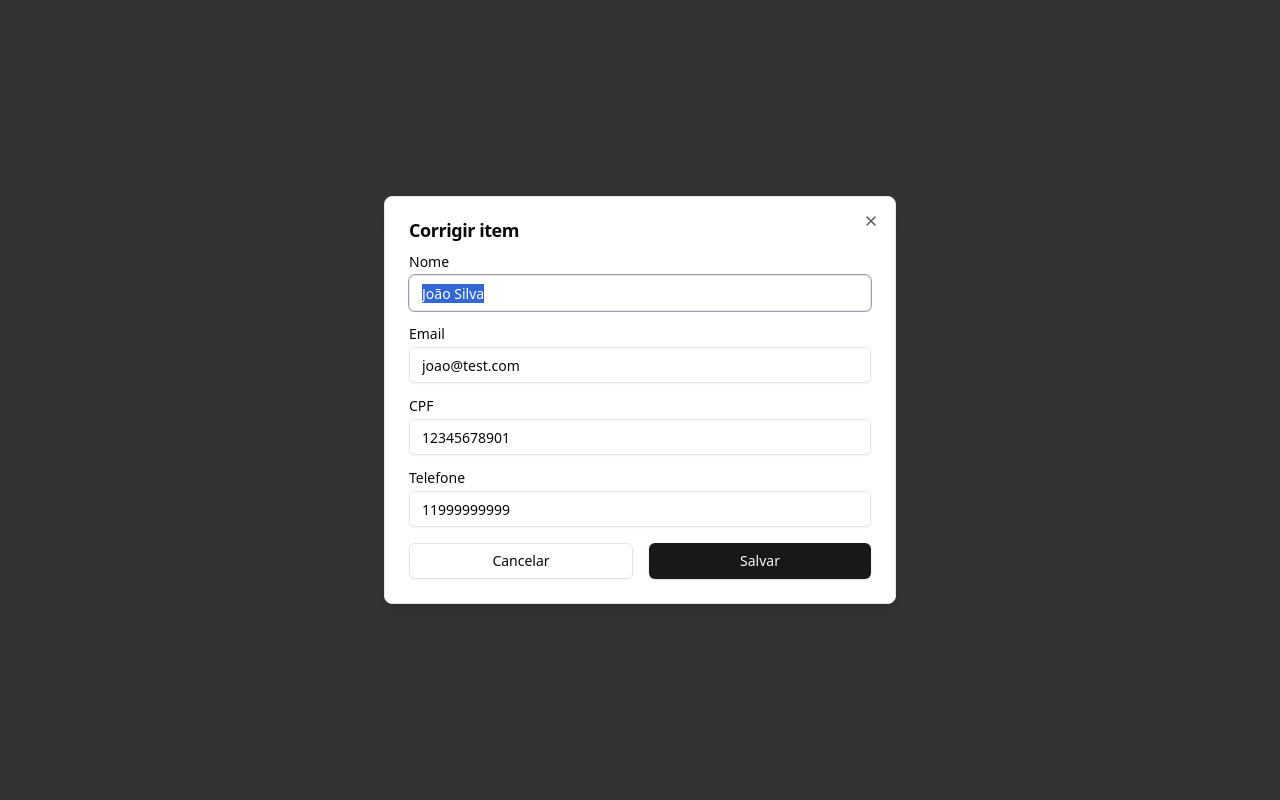
Test: EditItemModal › exibe erro inline quando API retorna item com status ERROR
Click the button "Salvar" at coordinates (760, 561), box [649,543,871,579]
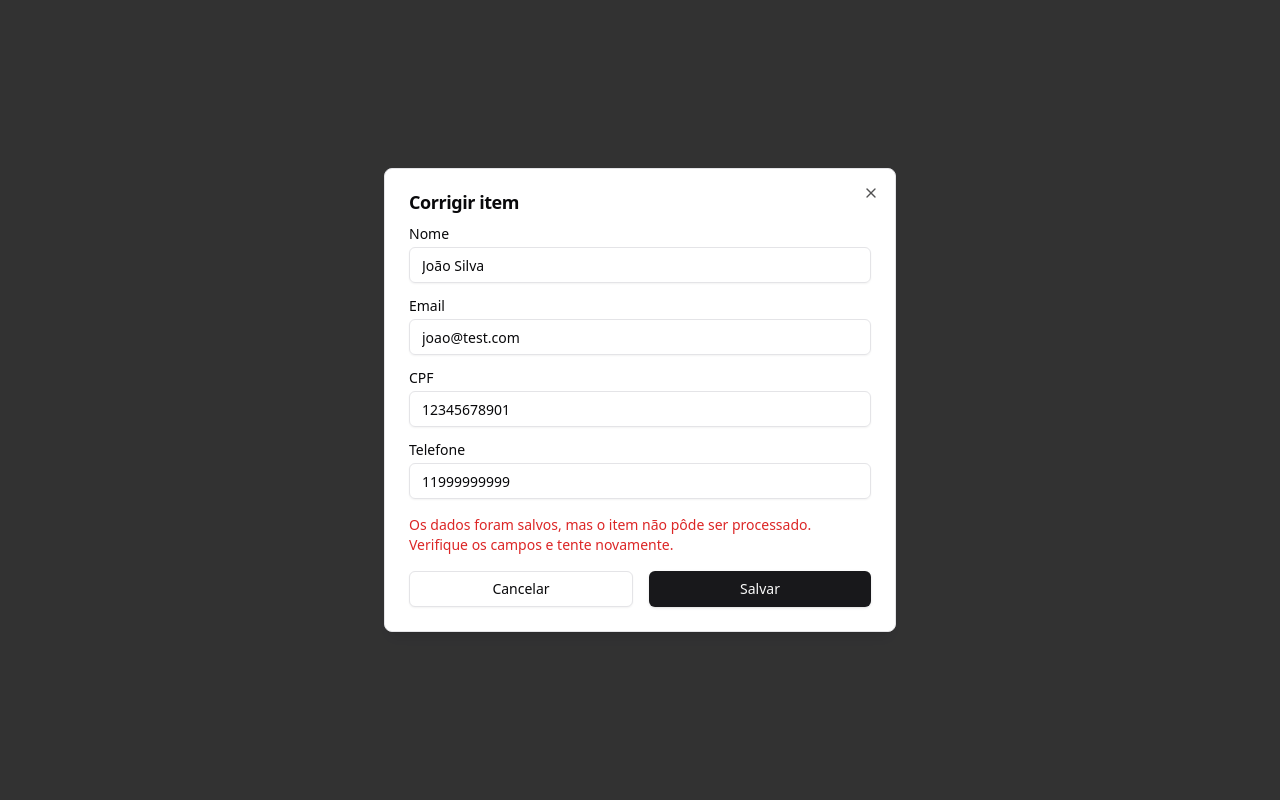
Expected: the text "não pôde ser processado" is shown, [409,515,811,554]
